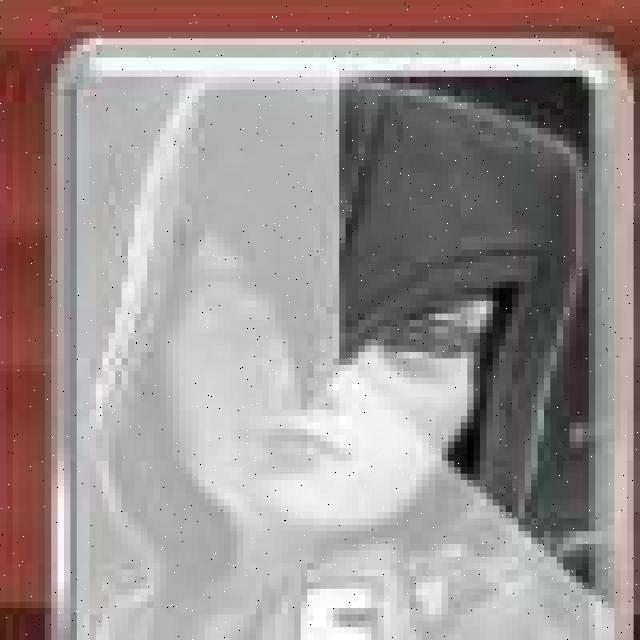Witch: (61, 40, 640, 640)
